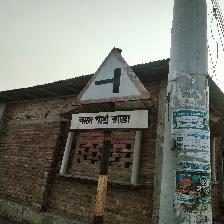Side-road-left: (70, 47, 153, 133)
